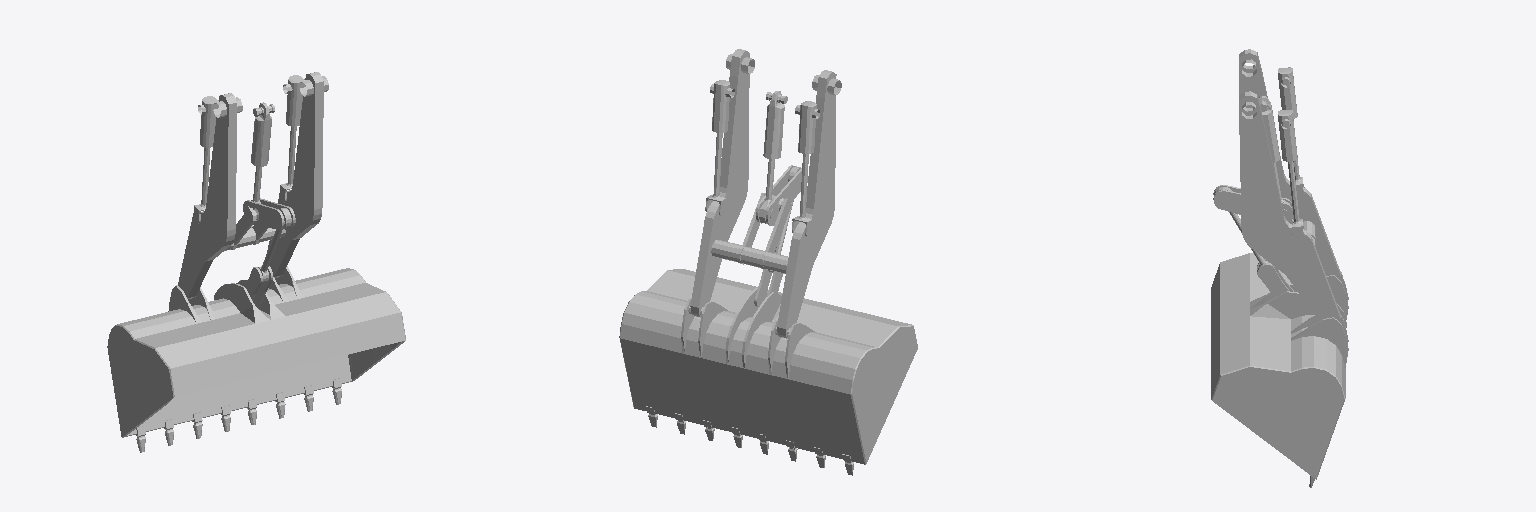
File: ArmMaquina.obj
3 renders of one model, left to right at view 1: azimuth 30°, elevation 25°; view 2: azimuth 150°, elevation 25°; view 3: azimuth 270°, elevation 25°, orthographic.
Visible parts, largest first — view 1: kovsh_low, balki_kovsha_low, amortizators_small_2_low, amortizator_low, tooths_low, balki_kovsha_01_low; view 2: kovsh_low, balki_kovsha_low, amortizators_small_2_low, amortizator_low, balki_kovsha_01_low, tooths_low; view 3: kovsh_low, balki_kovsha_low, amortizators_small_2_low, balki_kovsha_01_low, amortizator_low.
Part boxes in pixels (x1,y1,x2,y2): kovsh_low: (107, 268, 405, 437); balki_kovsha_low: (168, 72, 328, 323); amortizators_small_2_low: (193, 75, 304, 223); amortizator_low: (245, 102, 291, 282); tooths_low: (136, 378, 341, 452); balki_kovsha_01_low: (243, 198, 295, 303); kovsh_low: (619, 269, 917, 464); balki_kovsha_low: (681, 49, 841, 378); amortizators_small_2_low: (705, 80, 819, 236); amortizator_low: (759, 91, 800, 272); balki_kovsha_01_low: (754, 165, 801, 307); tooths_low: (646, 406, 853, 475); kovsh_low: (1211, 253, 1345, 479); balki_kovsha_low: (1239, 49, 1348, 367); amortizators_small_2_low: (1278, 67, 1304, 241); balki_kovsha_01_low: (1213, 185, 1293, 297); amortizator_low: (1214, 96, 1290, 267).
Size of the model in its own units: 3.14 by 4.73 by 1.6.